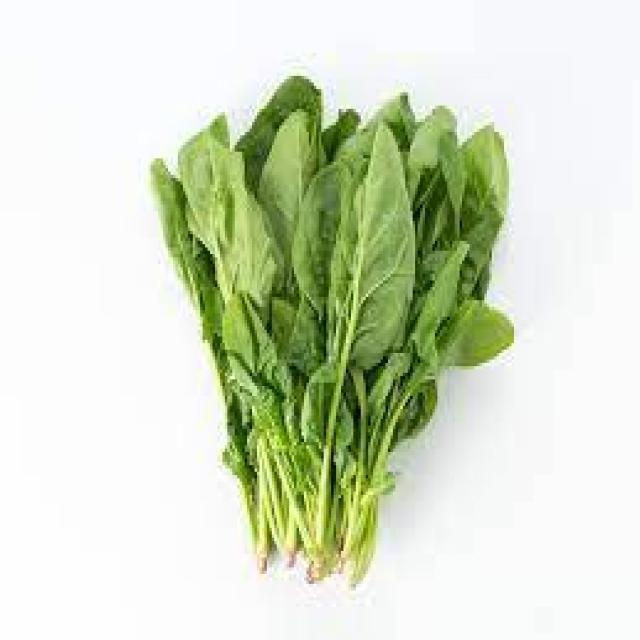Wet Waste: (145, 64, 522, 596)
